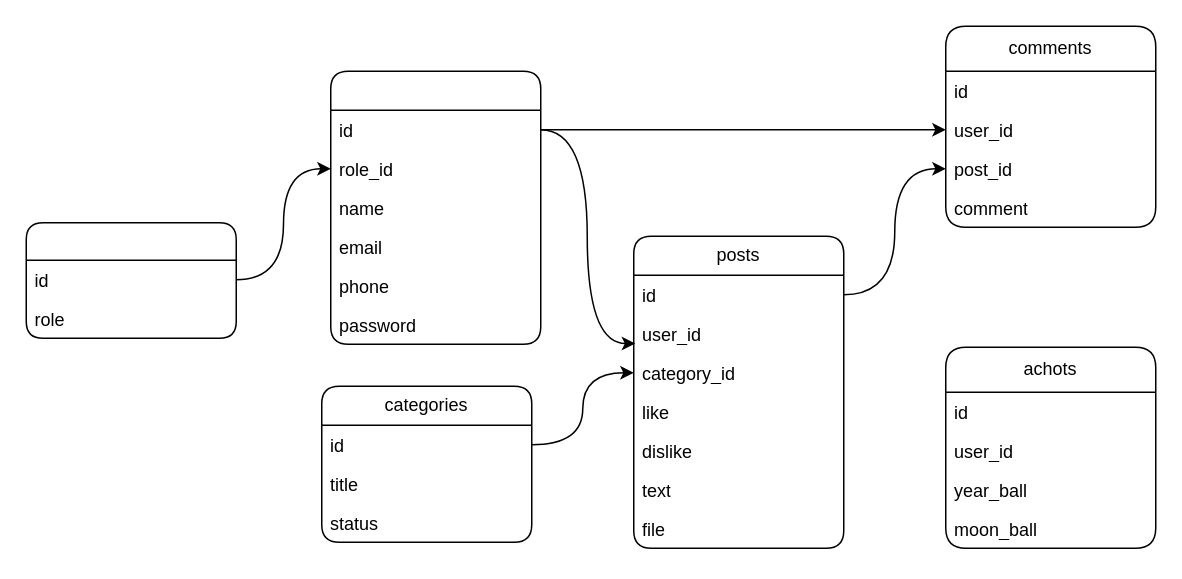
The diagram is 1182 pixels wide and 579 high, and some of its shapes have lost their labels. The shapes that lost their labels are listed below. From the top down, each one's box as (x1, y1, x2, y2) in pixels, then its label:
(329, 70, 541, 344): users
(25, 221, 236, 338): roles
